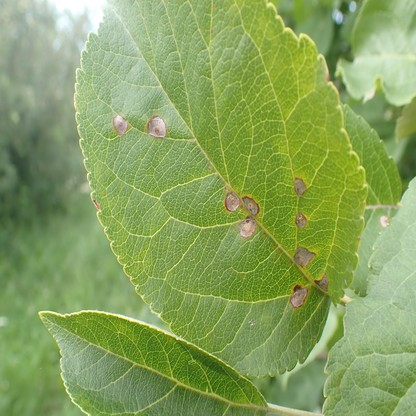frogeye_leaf_spot: (225, 192, 261, 238), (294, 246, 317, 268), (290, 284, 308, 309), (147, 117, 166, 139), (314, 273, 330, 292), (113, 114, 128, 134), (293, 178, 308, 196), (295, 211, 307, 229), (380, 214, 389, 226)
